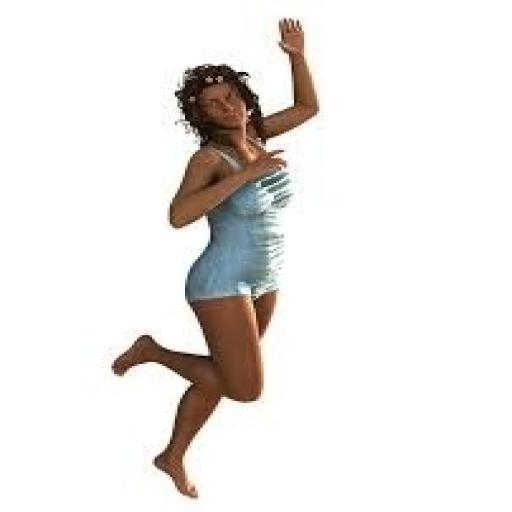dancing: (106, 14, 324, 502)
